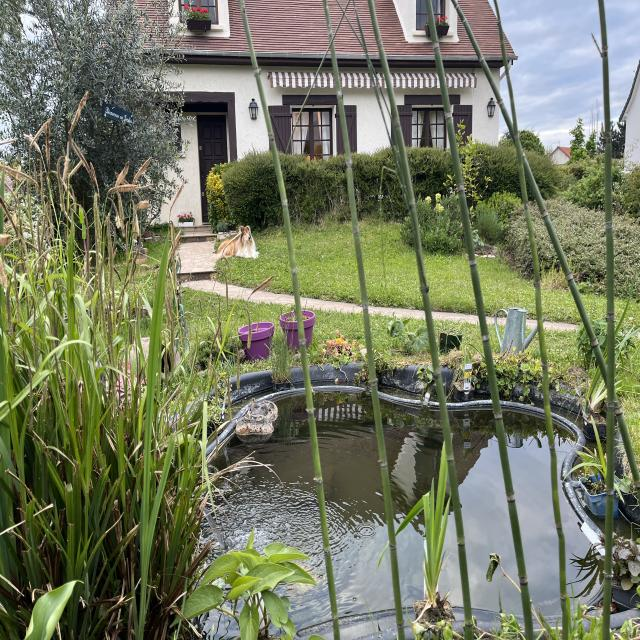Dog: (213, 216, 264, 275)
